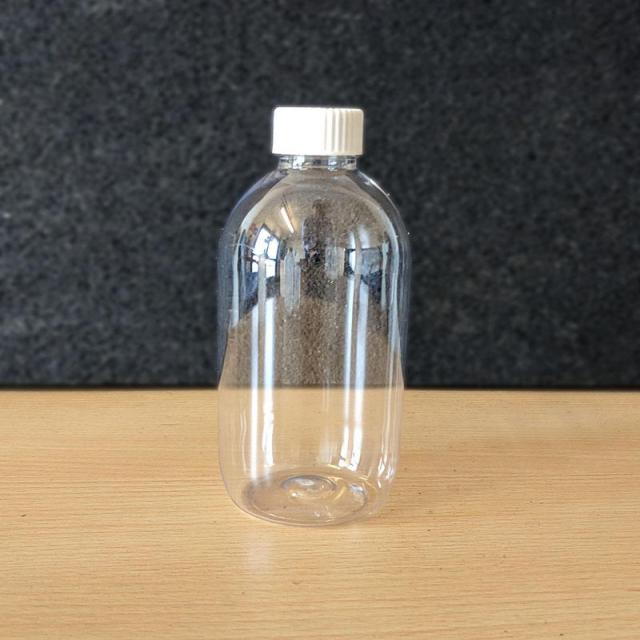plastic_bottle: (213, 104, 429, 533)
